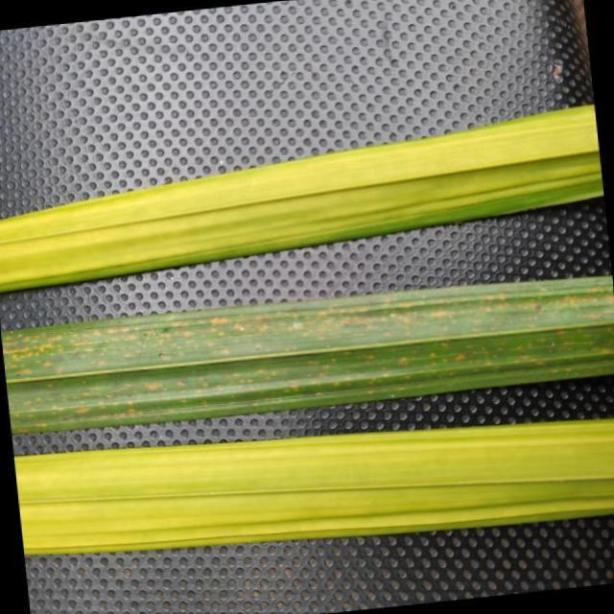nitrogen: (0, 99, 614, 296), (0, 274, 614, 434), (7, 420, 614, 559)
